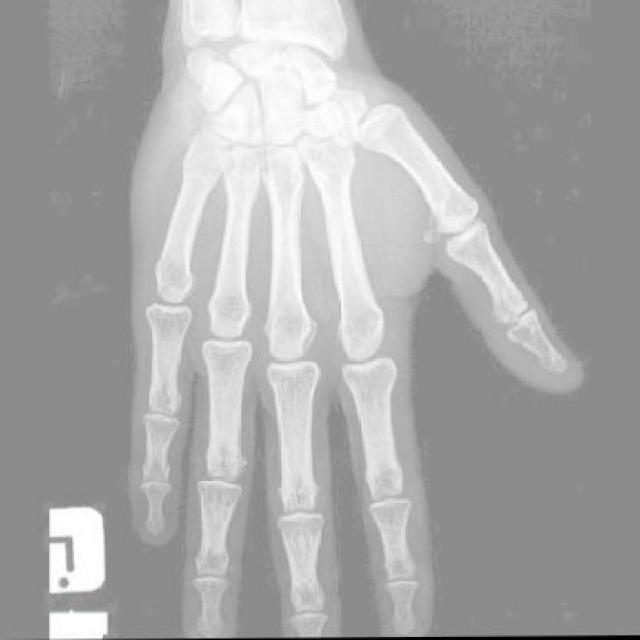Fracture: (305, 58, 338, 91)
